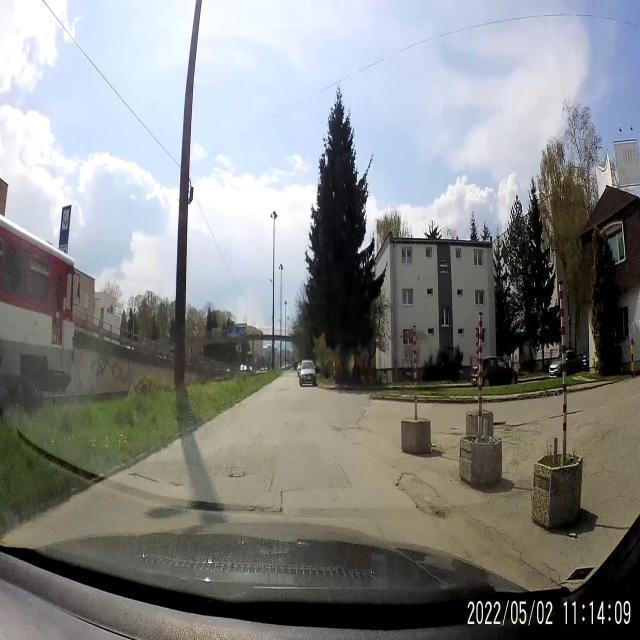Pothole: (392, 468, 450, 524), (126, 466, 160, 492), (494, 418, 536, 436), (224, 464, 249, 484), (447, 420, 460, 433)
